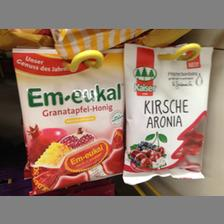Suessigkeit: (10, 46, 122, 188), (122, 40, 210, 184)
